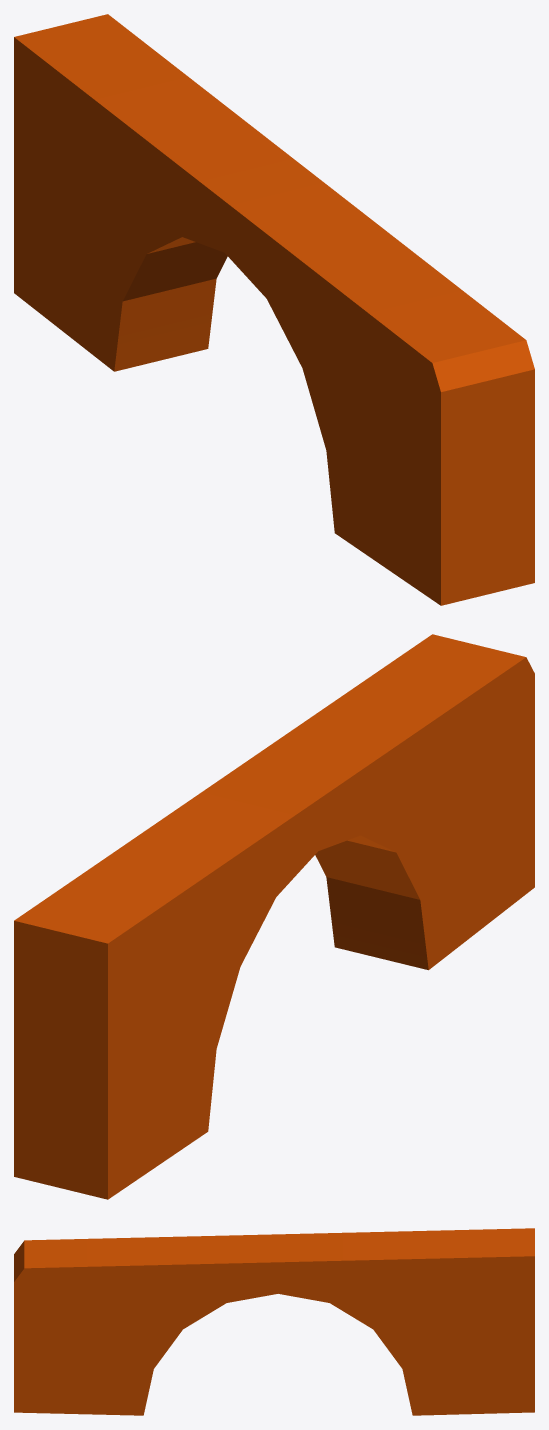
File: brute_500_fender_left.glb
3 views of the same model, one above another, from view 1: azimuth 30°, elevation 25°; view 2: azimuth 150°, elevation 25°; view 3: azimuth 270°, elevation 25° (orthographic). The views are drawn at different scales.
Parts seen in each view (by area): view 1: brute_500_fender_left; view 2: brute_500_fender_left; view 3: brute_500_fender_left.
Boxes of the visible parts, <box> form: brute_500_fender_left: <box>14,14,534,605</box>; brute_500_fender_left: <box>14,634,534,1199</box>; brute_500_fender_left: <box>14,1228,534,1415</box>.
Size of the model in its own units: 0.2096 by 0.5571 by 1.65.
